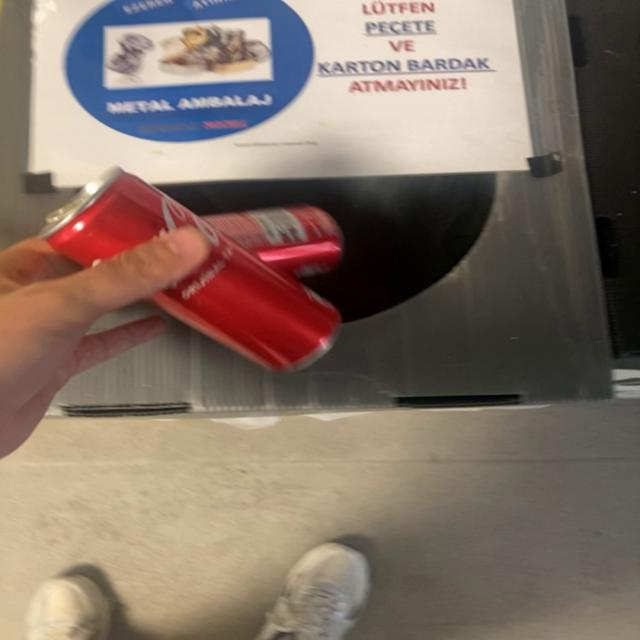bin: (4, 0, 609, 412)
metal: (38, 167, 341, 371)
